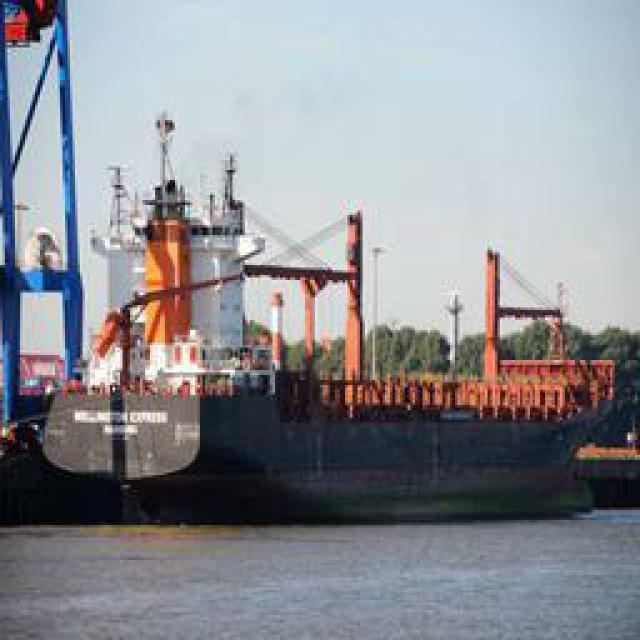Ship: (24, 85, 614, 523)
